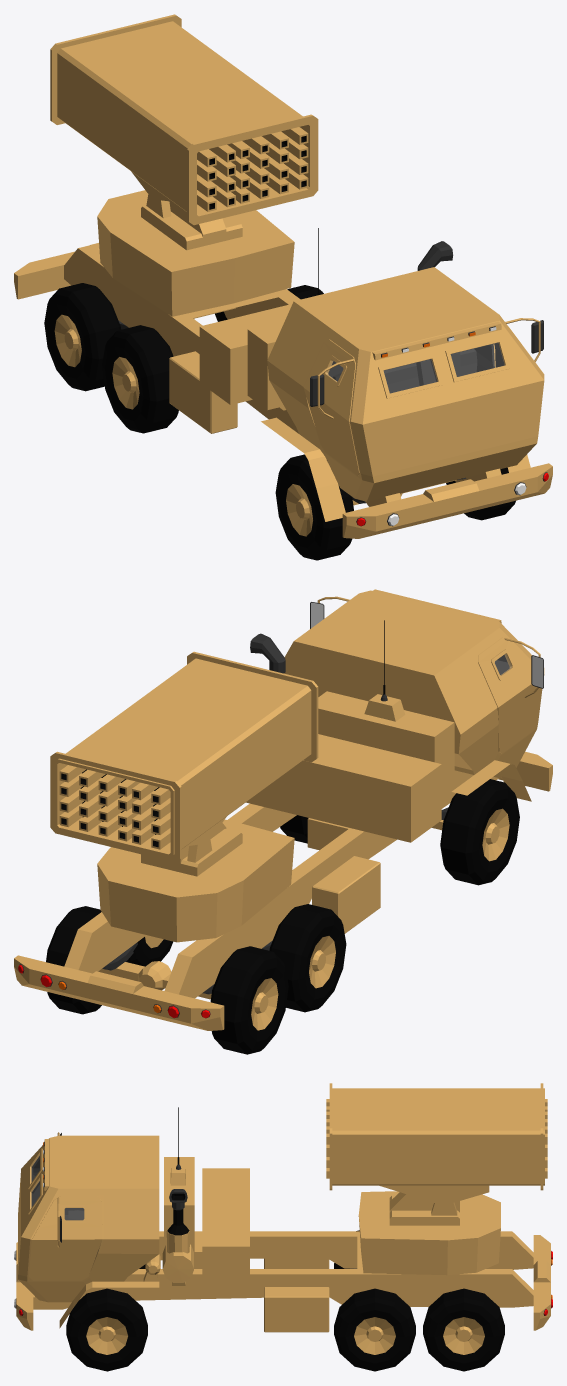
3 renders of one model, top to bottom at view 1: azimuth 30°, elevation 25°; view 2: azimuth 150°, elevation 25°; view 3: azimuth 270°, elevation 25°, orthographic. The views are drawn at different scales.
Parts seen in each view (by area): view 1: Plane.010, Plane.005, Cube.002, Cylinder.015, Cylinder.019, Cylinder.017, Plane.011, Plane.014, Plane.012, Plane.013; view 2: Plane.010, Plane.005, Cube.002, Cylinder.017, Cylinder.019, Cylinder.015, Plane.011, Cylinder.016, Cylinder.018; view 3: Plane.010, Plane.005, Cube.002, Cylinder.016, Cylinder.018, Cylinder.020, Plane.013, Plane.014.
Boxes of the visible parts, x1,y1,x2,y2 form: Plane.010: (14,228,552,538); Plane.005: (50,14,318,225); Cube.002: (97,190,294,316); Cylinder.015: (102,325,178,433); Cylinder.019: (44,283,121,391); Cylinder.017: (275,454,353,560); Plane.011: (303,339,359,475); Plane.014: (328,342,504,393); Plane.012: (384,343,504,392); Plane.013: (493,318,543,367); Plane.010: (14,589,552,1030); Plane.005: (50,651,318,862); Cube.002: (97,819,294,942); Cylinder.017: (440,779,519,885); Cylinder.019: (210,946,288,1054); Cylinder.015: (269,904,346,1012); Plane.011: (478,637,544,753); Cylinder.016: (46,906,101,1014); Cylinder.018: (126,935,172,966); Plane.010: (14,1107,552,1332); Plane.005: (326,1083,547,1204); Cube.002: (358,1191,500,1275); Cylinder.016: (423,1288,504,1371); Cylinder.018: (334,1288,415,1371); Cylinder.020: (66,1288,147,1371); Plane.013: (29,1196,102,1280); Plane.014: (31,1156,84,1220).
Size of the model in its own units: 338 by 413 by 875.
